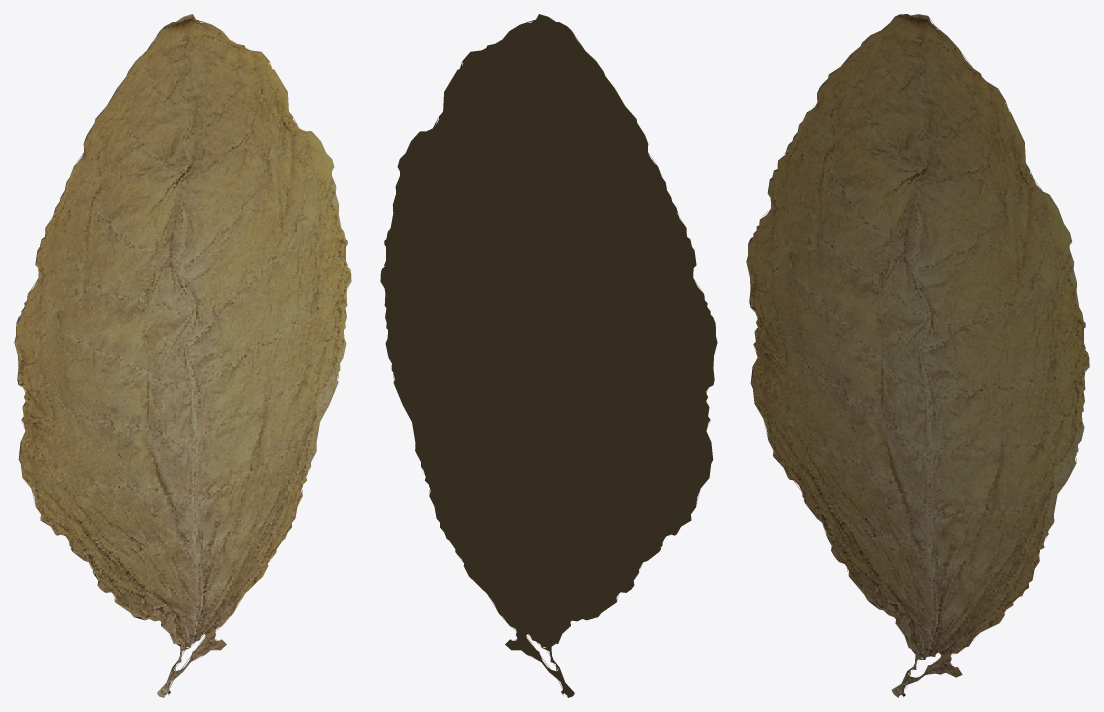
Rendered from 20260911_152039111_iOS.obj.
3 renders of one model, left to right at view 1: azimuth 30°, elevation 25°; view 2: azimuth 150°, elevation 25°; view 3: azimuth 330°, elevation 25°, orthographic.
Parts seen in each view (by area): view 1: 20260911_152039111_iOS; view 2: 20260911_152039111_iOS; view 3: 20260911_152039111_iOS.
Boxes of the visible parts, bbox=[...] form: 20260911_152039111_iOS: bbox=[14, 14, 351, 697]; 20260911_152039111_iOS: bbox=[380, 14, 717, 697]; 20260911_152039111_iOS: bbox=[746, 14, 1089, 697].
Size of the model in its own units: 226 by 433 by 0.3.
